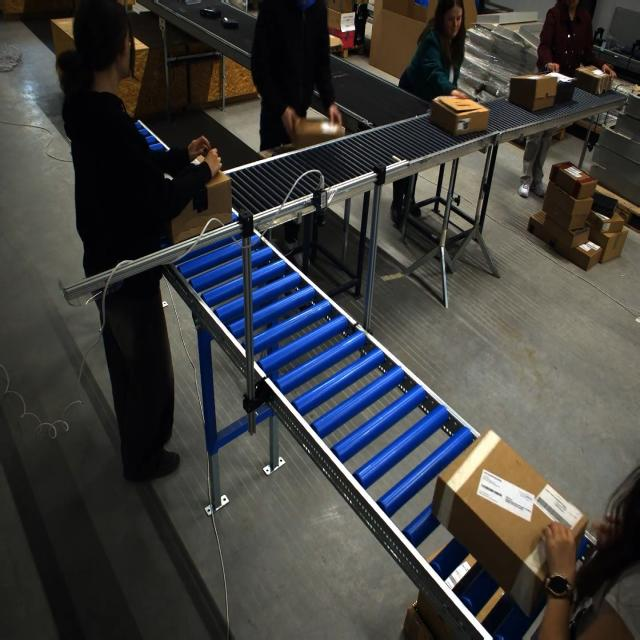box: (430, 427, 584, 605), (164, 156, 232, 244), (429, 95, 489, 136), (507, 73, 558, 112)
product: (199, 7, 221, 18), (221, 16, 239, 28), (178, 0, 201, 5)
